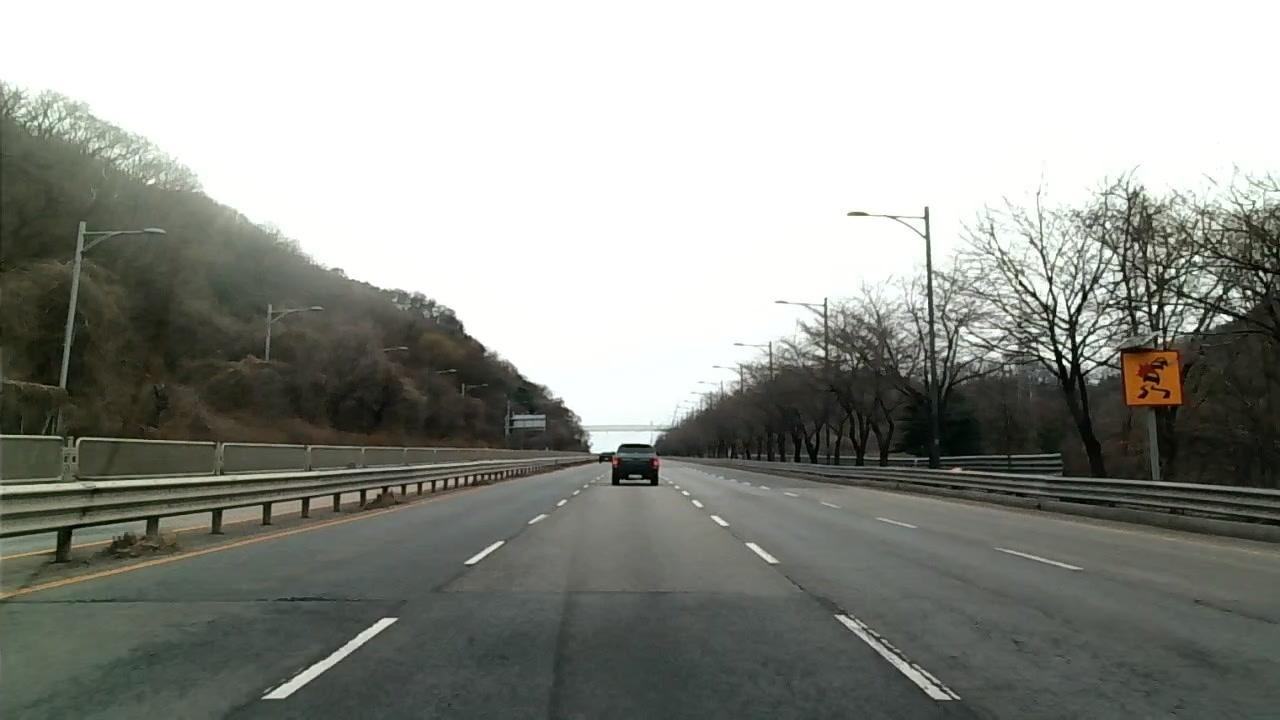erosion: (1008, 634, 1201, 720)
hcrack: (4, 590, 398, 611)
vcrack: (786, 574, 966, 709)
